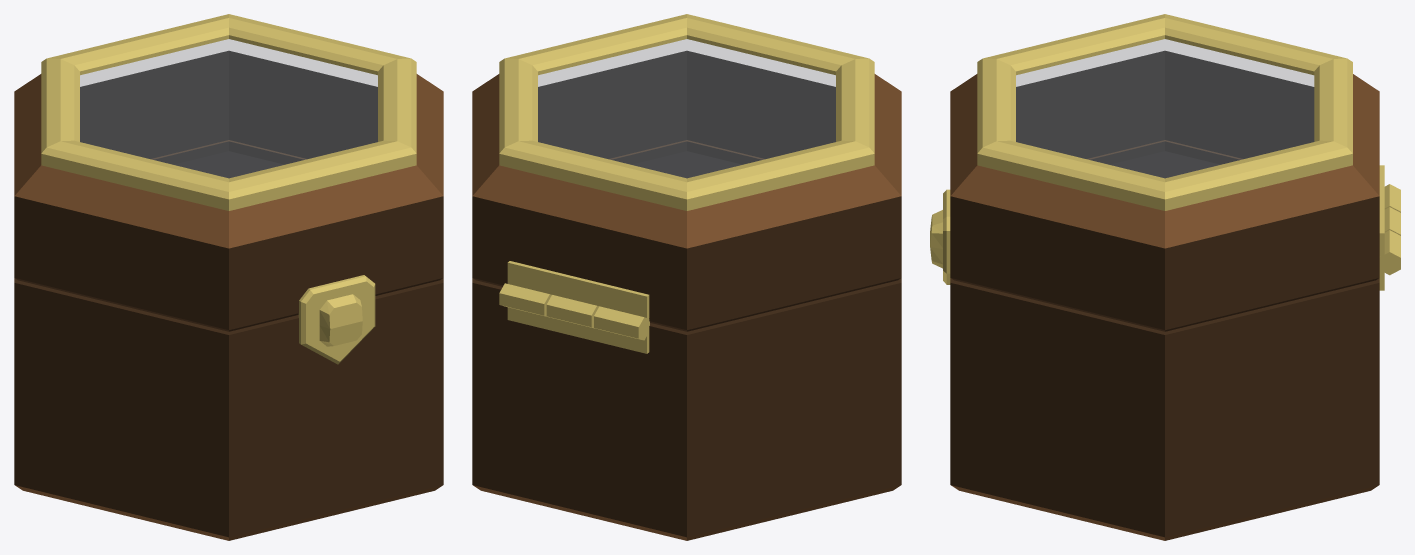
The model's file is single-die-vault-40dd5a.glb.
3 views of the same model, side by side, from view 1: azimuth 30°, elevation 25°; view 2: azimuth 150°, elevation 25°; view 3: azimuth 270°, elevation 25° (orthographic).
Visible parts, largest first — view 1: vault-base, lid-shell, lid-gold, lid-glass; view 2: vault-base, lid-shell, lid-gold, lid-glass, vault-base-hinge; view 3: vault-base, lid-shell, lid-glass, lid-gold, vault-base-hinge.
Part boxes in pixels (box(x1,y1,x2,y2)): vault-base: box(14, 140, 443, 540); lid-shell: box(14, 51, 443, 331); lid-gold: box(41, 14, 416, 364); lid-glass: box(80, 39, 377, 177); vault-base: box(472, 140, 901, 540); lid-shell: box(472, 51, 901, 331); lid-gold: box(499, 14, 874, 328); lid-glass: box(538, 39, 835, 177); vault-base-hinge: box(499, 283, 649, 353); vault-base: box(950, 140, 1379, 540); lid-shell: box(950, 51, 1379, 331); lid-glass: box(1016, 39, 1313, 177); lid-gold: box(930, 14, 1400, 284); vault-base-hinge: box(1379, 184, 1400, 290).
Bounding box in the file's own units: 0.0462 × 0.035 × 0.0439.
